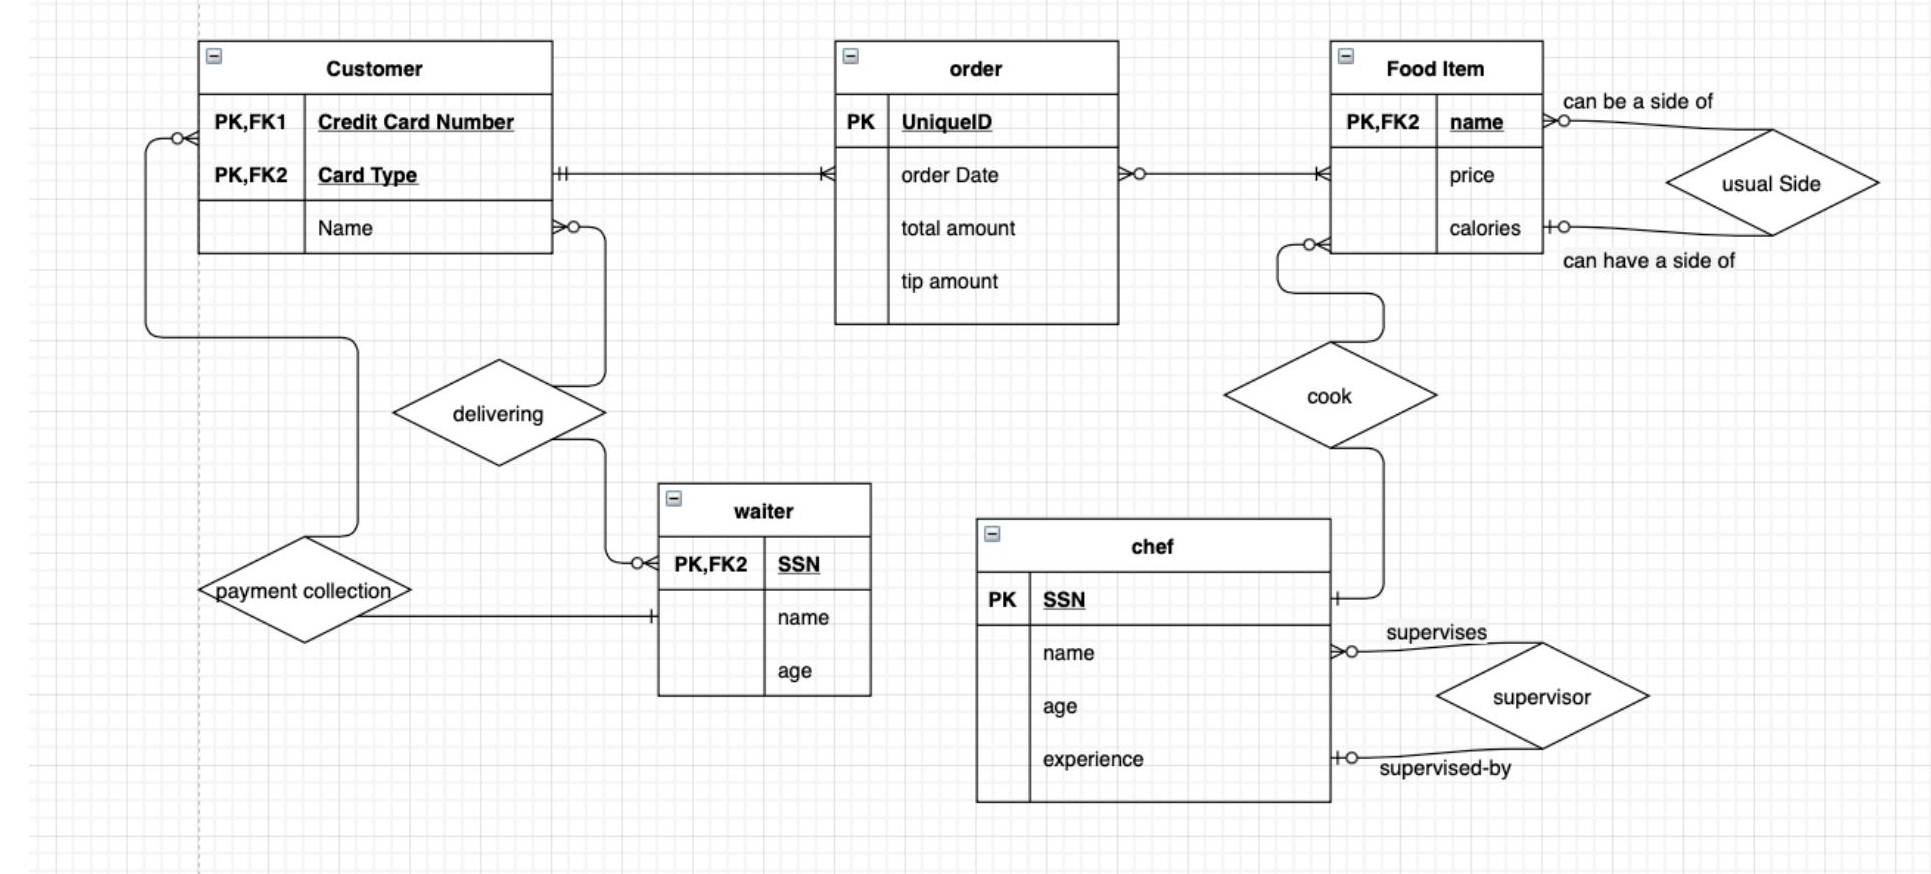Entity: (974, 517, 1334, 805), (832, 38, 1121, 327), (195, 38, 555, 257), (655, 481, 874, 699), (1328, 39, 1547, 256)
Relationship: (390, 358, 608, 467), (200, 535, 413, 645), (1436, 644, 1651, 751), (1666, 130, 1881, 238), (1222, 342, 1438, 446)
